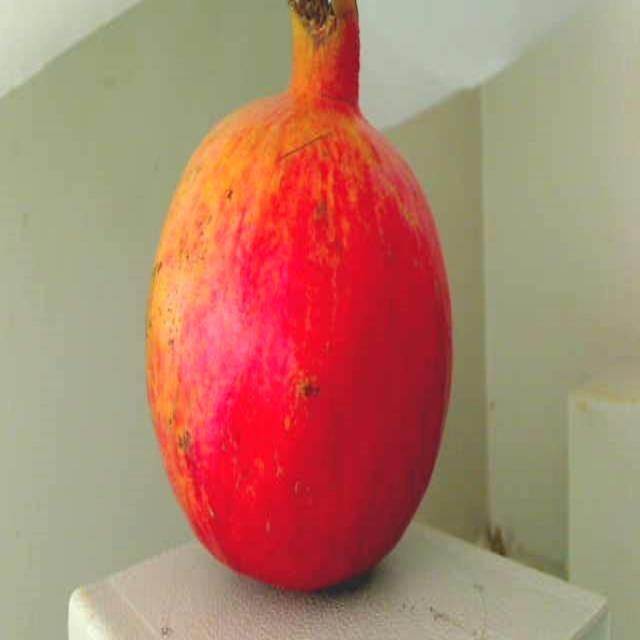pomegranate: (141, 0, 460, 604)
